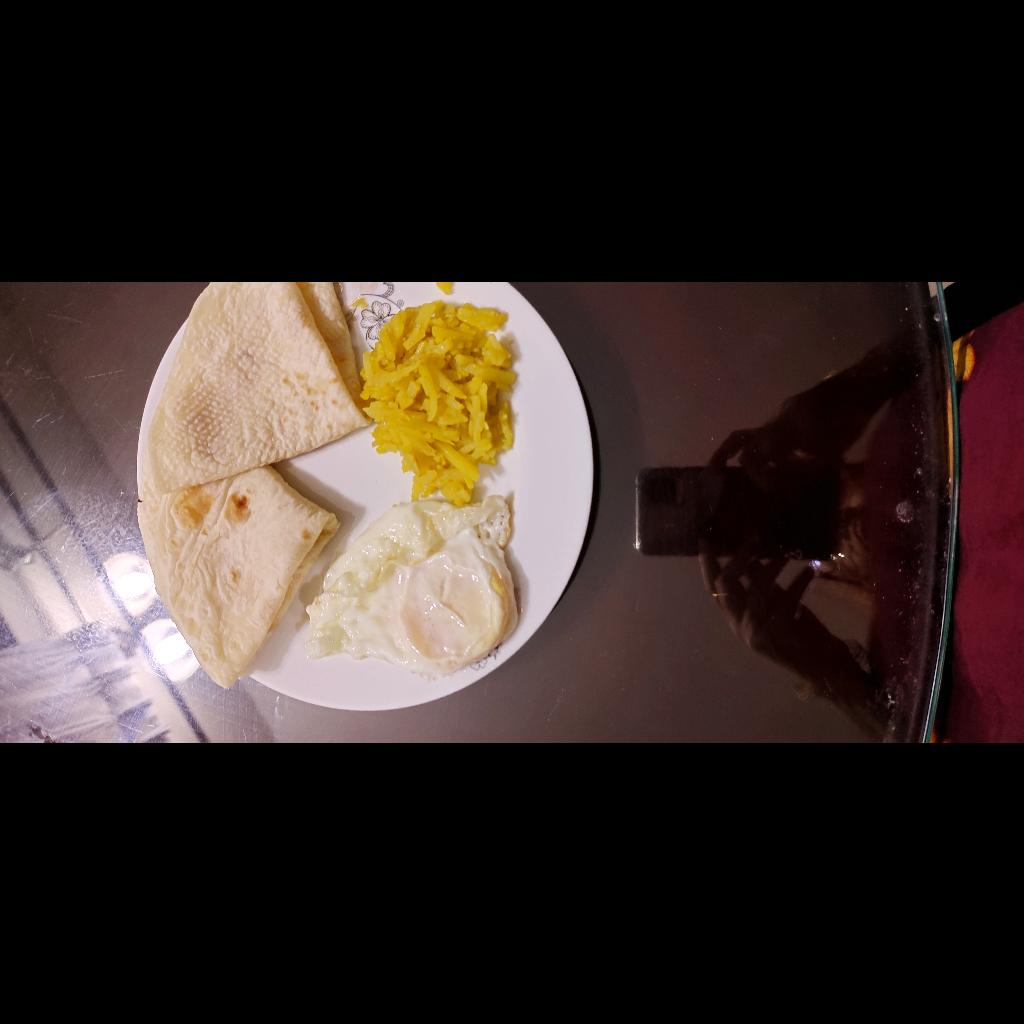egg-poached: (64, 592, 244, 799)
potato: (246, 639, 444, 799)
ruti: (49, 415, 461, 648)
